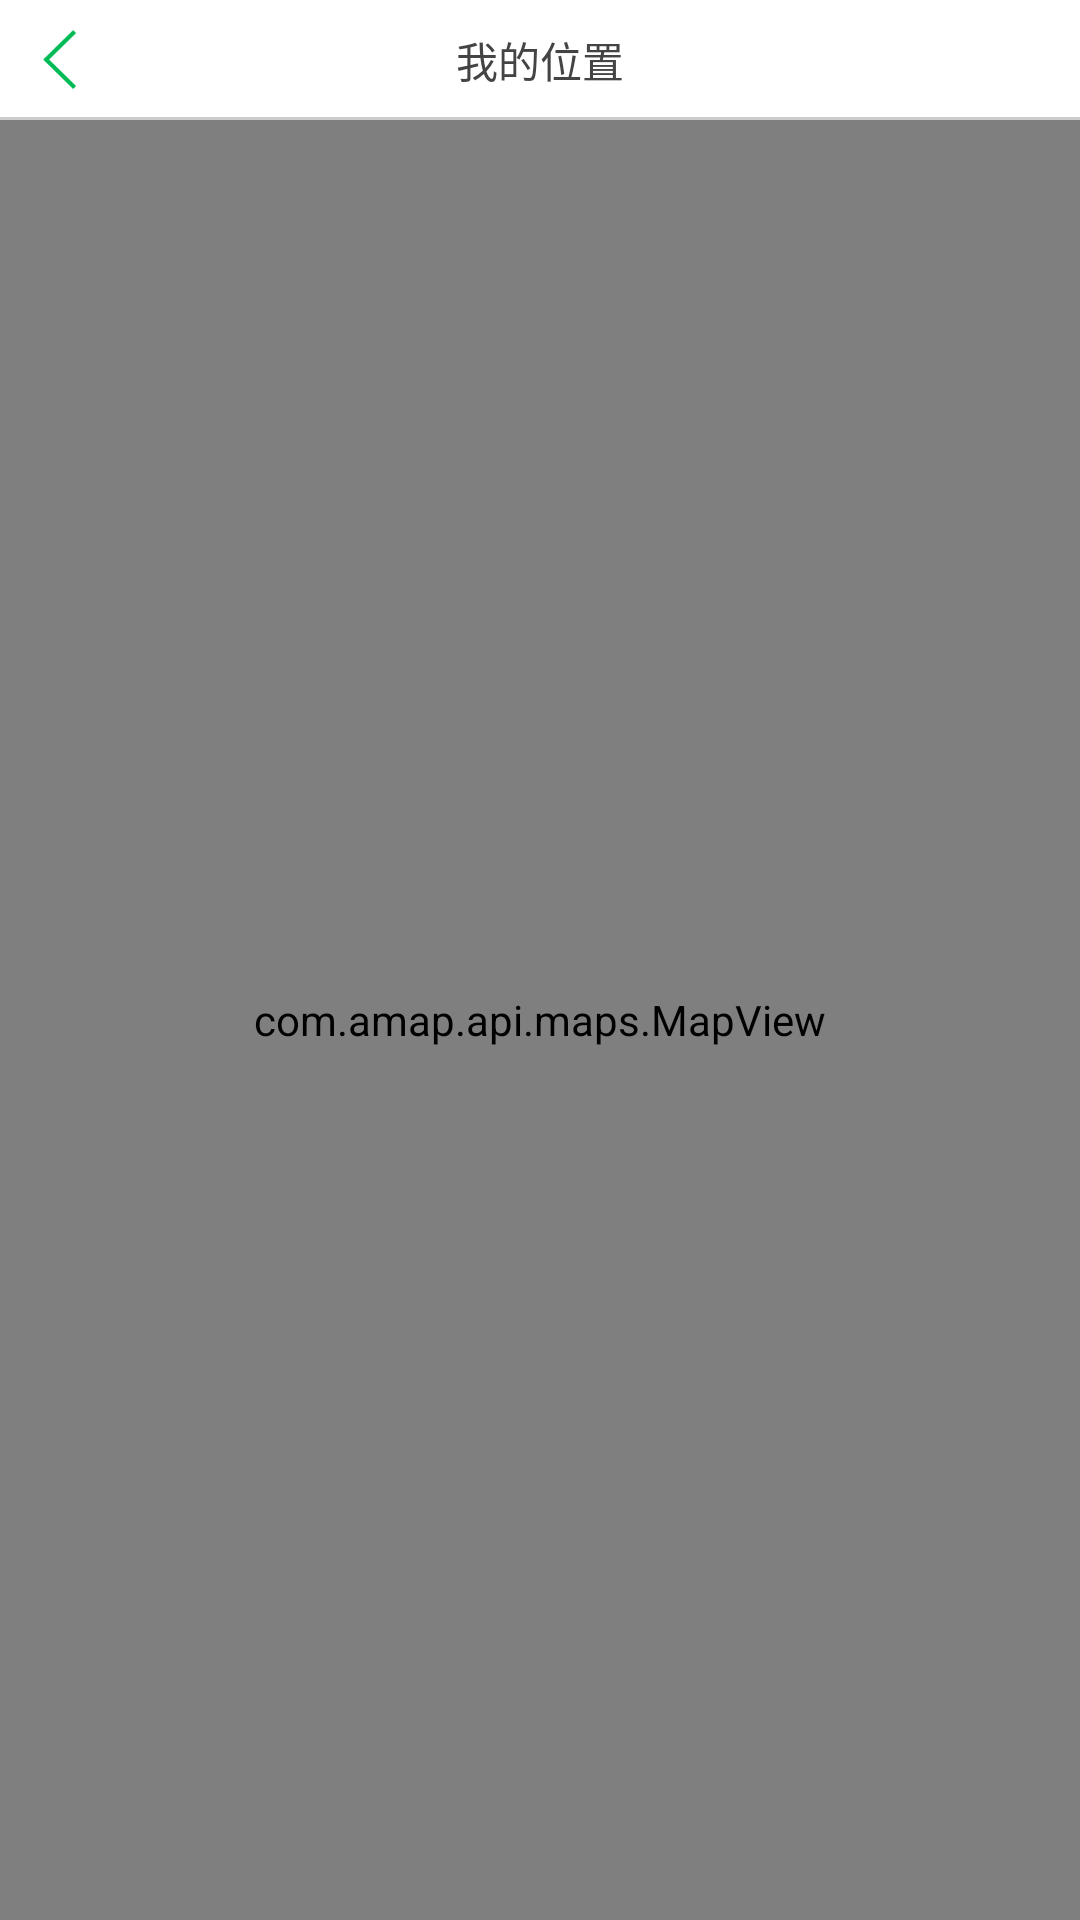

Point at icon controls on the screen. Image size 1080 x 1920, points as (x=x, y=y).
back left: (x=60, y=60)
